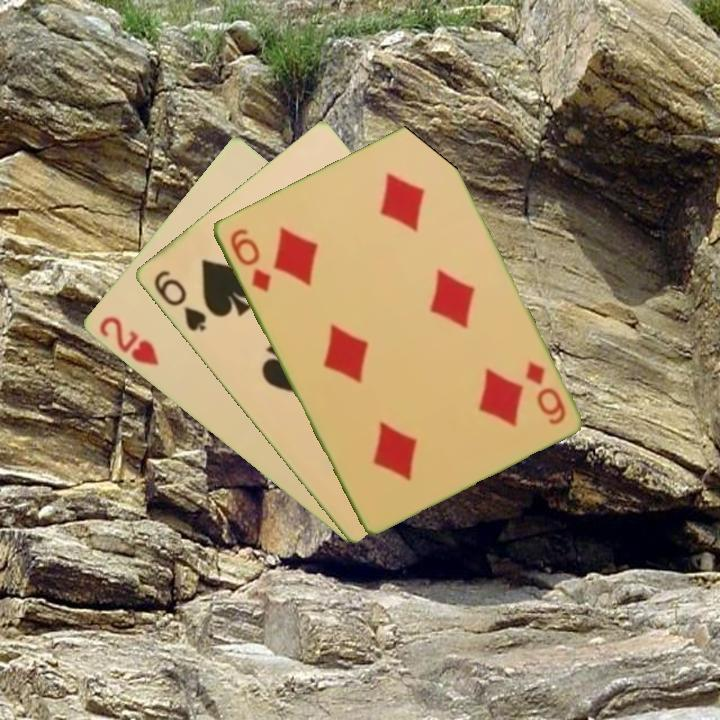2h: (95, 312, 162, 369)
6d: (225, 224, 274, 295), (521, 357, 569, 428)
6s: (149, 266, 209, 335)
